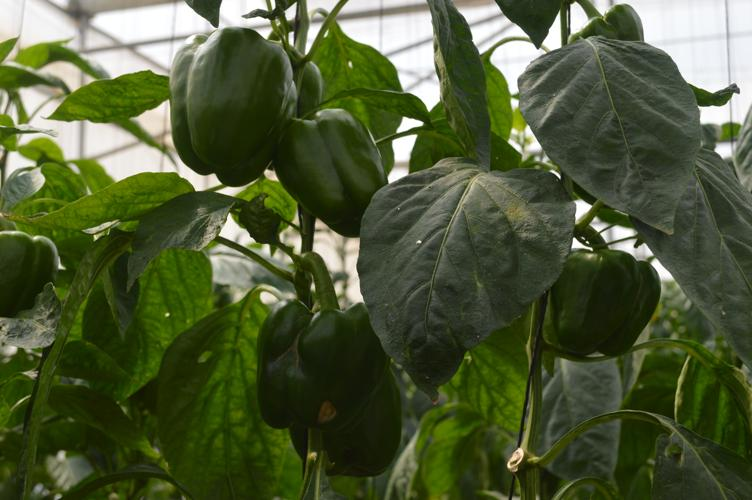BellPepper: (170, 28, 288, 183), (257, 300, 391, 429), (547, 251, 659, 369), (283, 373, 406, 479), (287, 107, 386, 236), (2, 229, 57, 319)
